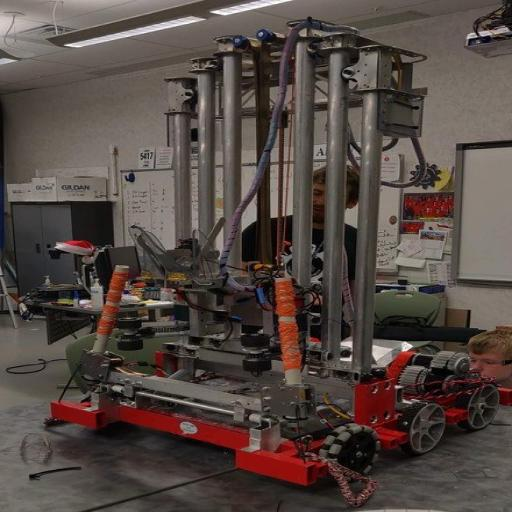robot: (57, 13, 499, 487)
